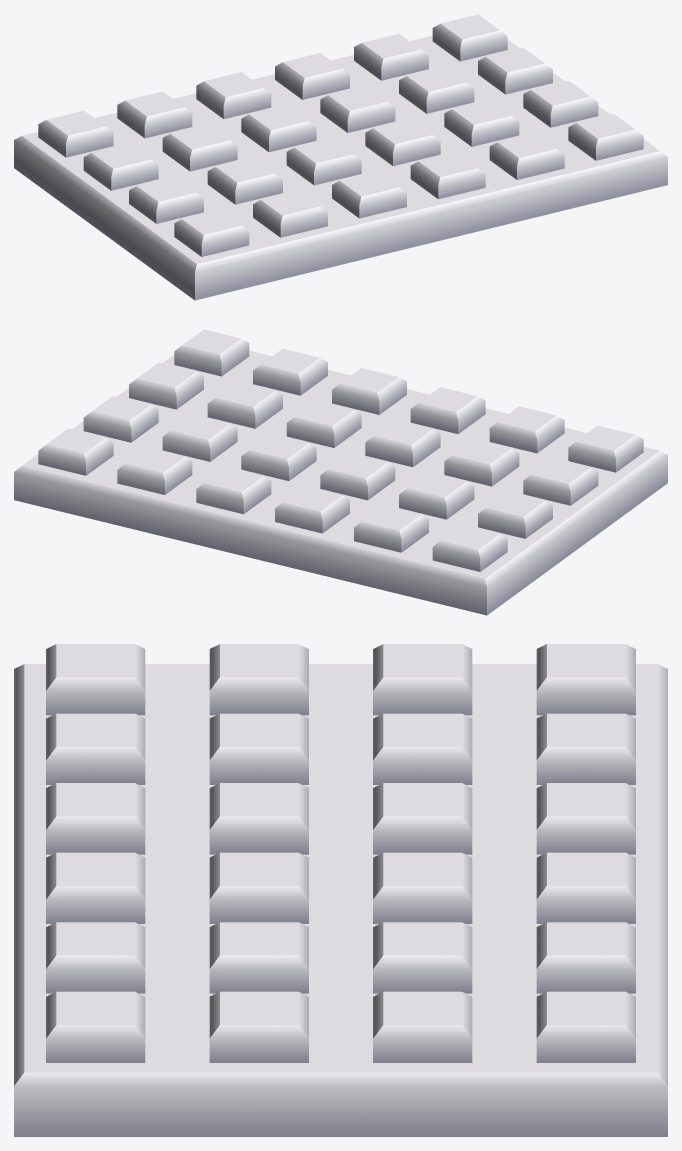
Rendered from square-hq-plate-4x6.glb.
3 renders of one model, top to bottom at view 1: azimuth 30°, elevation 25°; view 2: azimuth 150°, elevation 25°; view 3: azimuth 270°, elevation 25°, orthographic. The views are drawn at different scales.
Visible parts, largest first — view 1: square-hq-plate-4x6; view 2: square-hq-plate-4x6; view 3: square-hq-plate-4x6.
Boxes of the visible parts, x1=… form: square-hq-plate-4x6: x1=14, y1=14, x2=667, y2=300; square-hq-plate-4x6: x1=14, y1=329, x2=667, y2=615; square-hq-plate-4x6: x1=14, y1=644, x2=667, y2=1136.
Size of the model in its own units: 0.477 by 0.05 by 0.316.
1 material, 1 textured.
